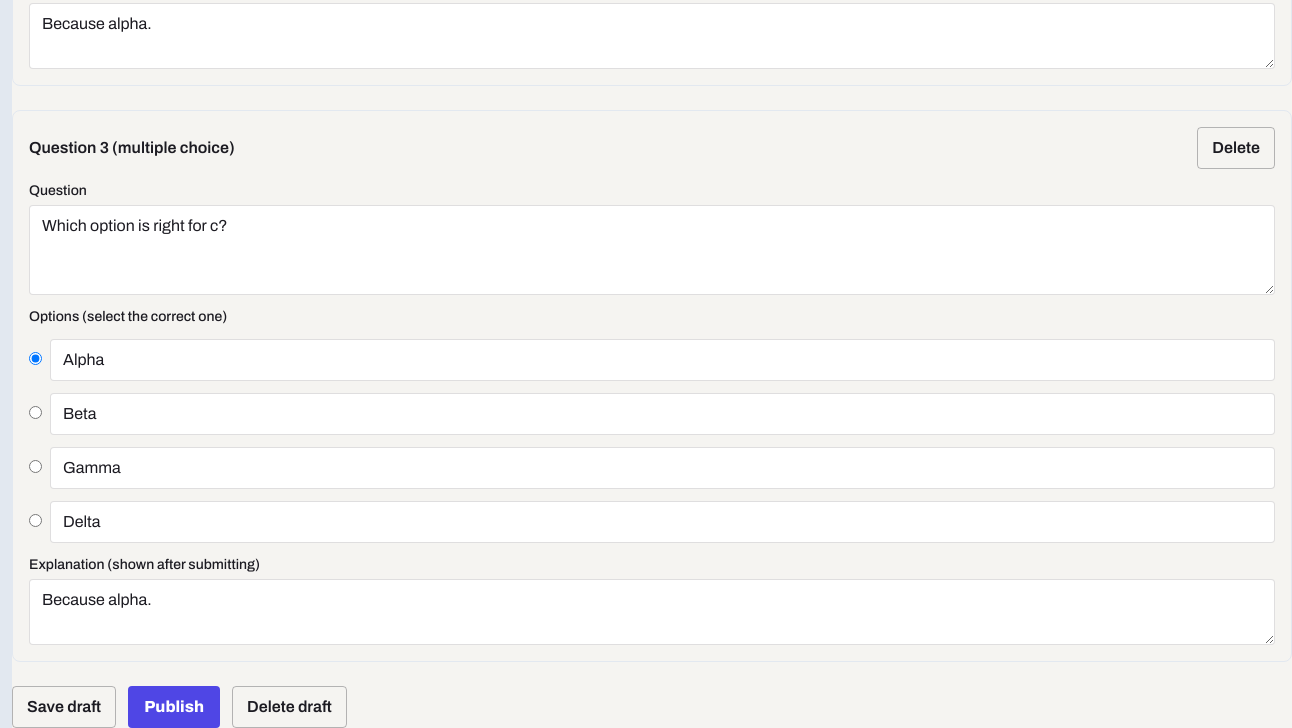
AssessmentEditor › saves then publishes, and tells the reviewer when it fails
(page scrolled)
Click the button "Publish" at (174, 707), box [128,686,220,727]
(page scrolled)
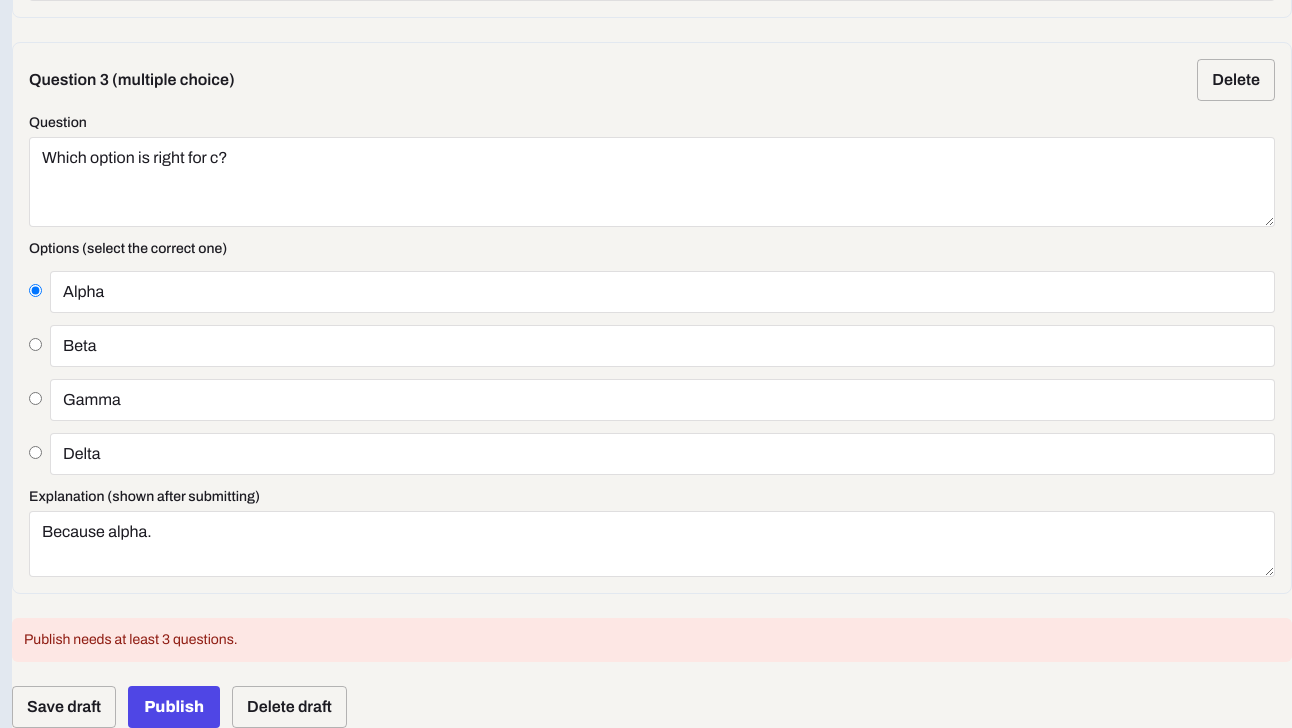
Expected: the message shows "at least 3 questions", [24,632,238,647]
